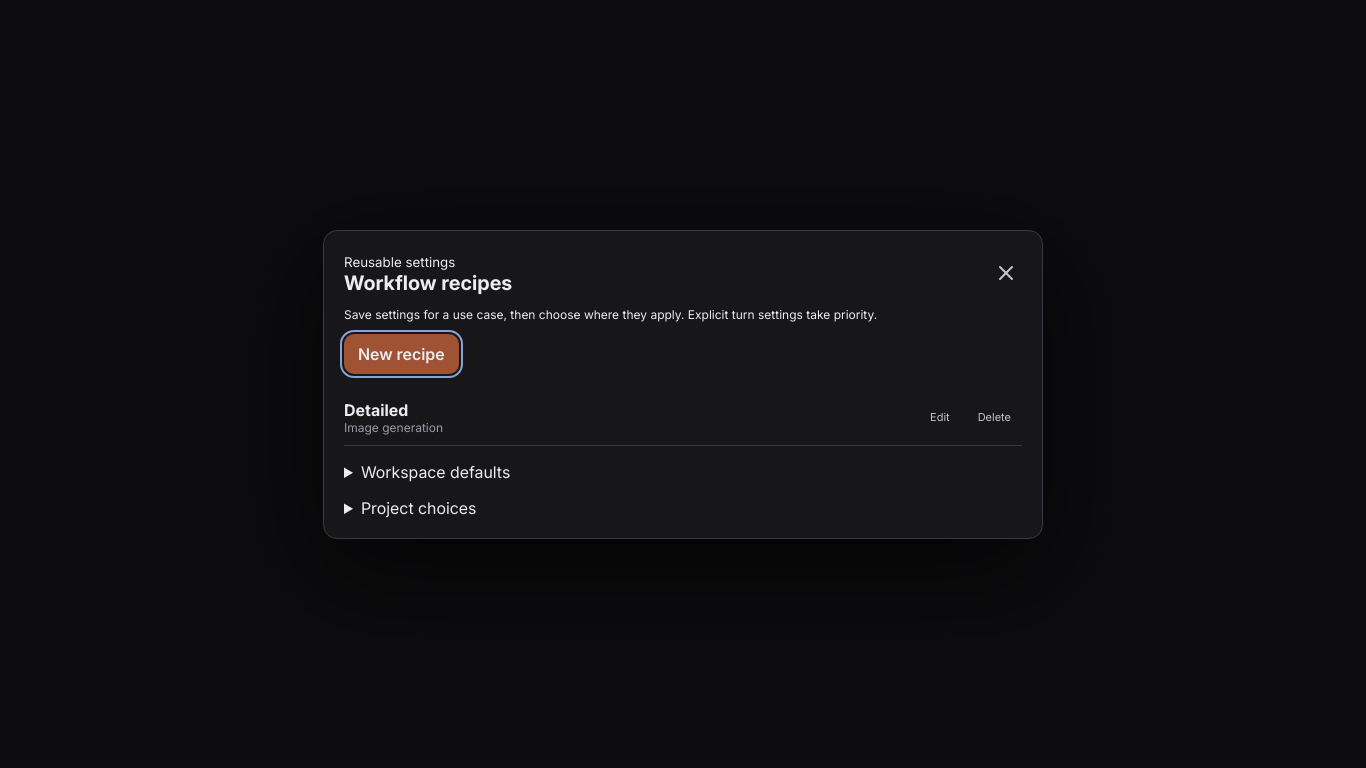
restores focus inside the dialog after a successful deletion
Click the button with aria-label "Delete recipe Detailed": (994, 417) [967, 402, 1022, 432]
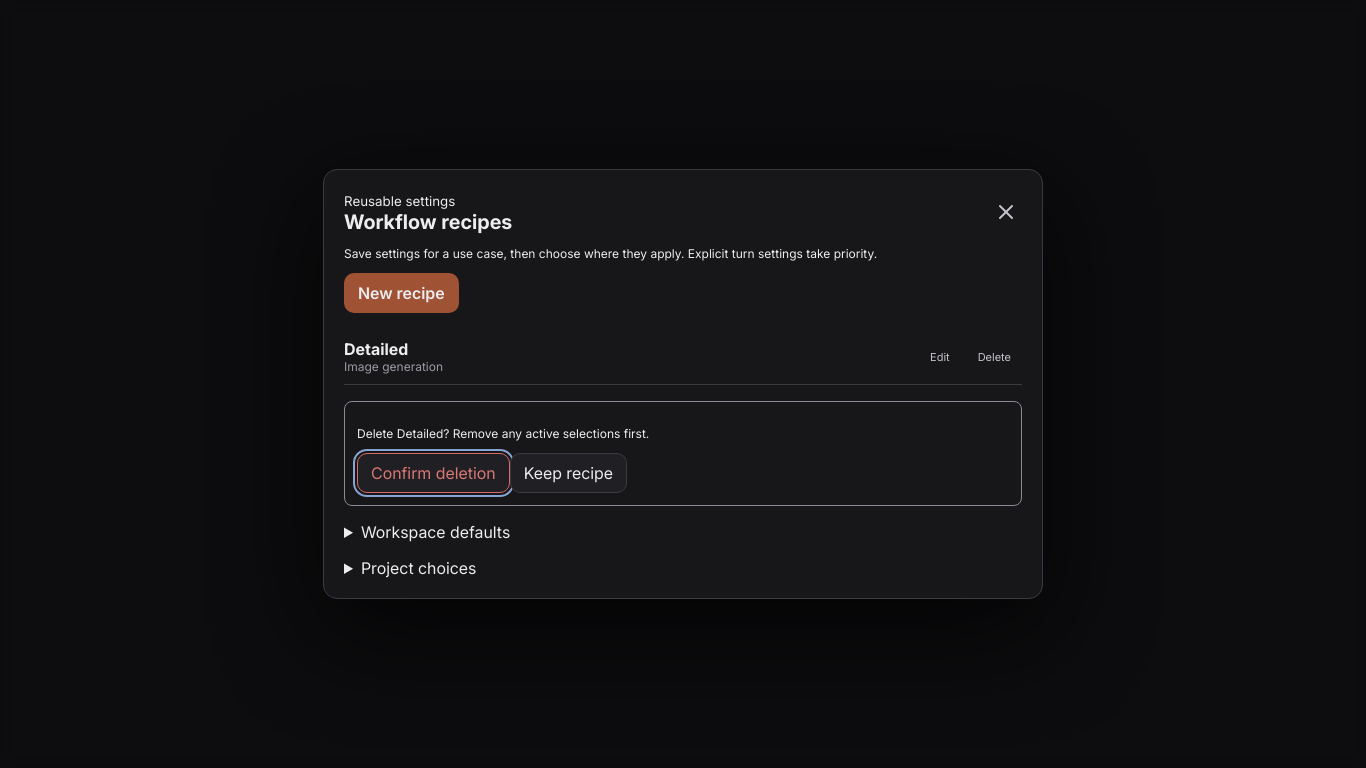
Click the button "Confirm deletion": (433, 473) [357, 453, 510, 493]
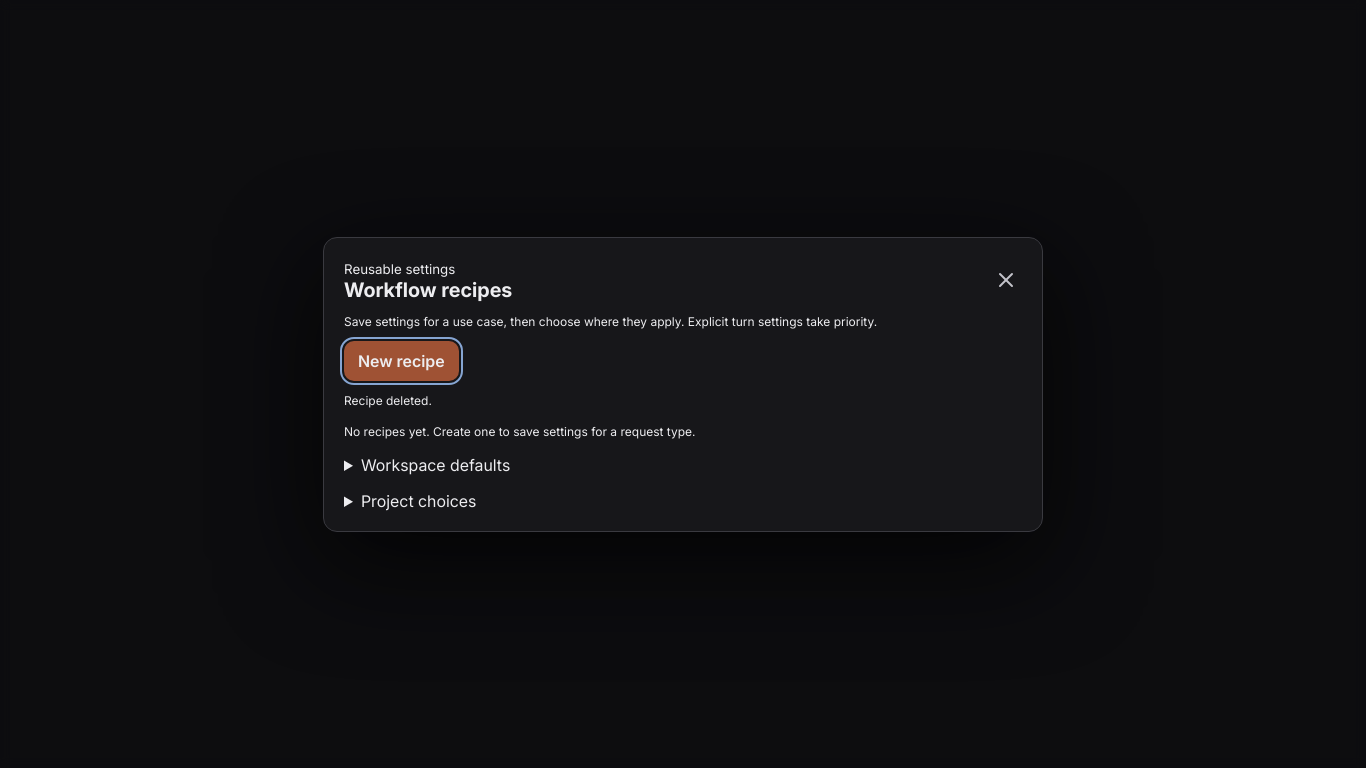
Now the text "Recipe deleted." is shown, box [344, 392, 432, 408]
